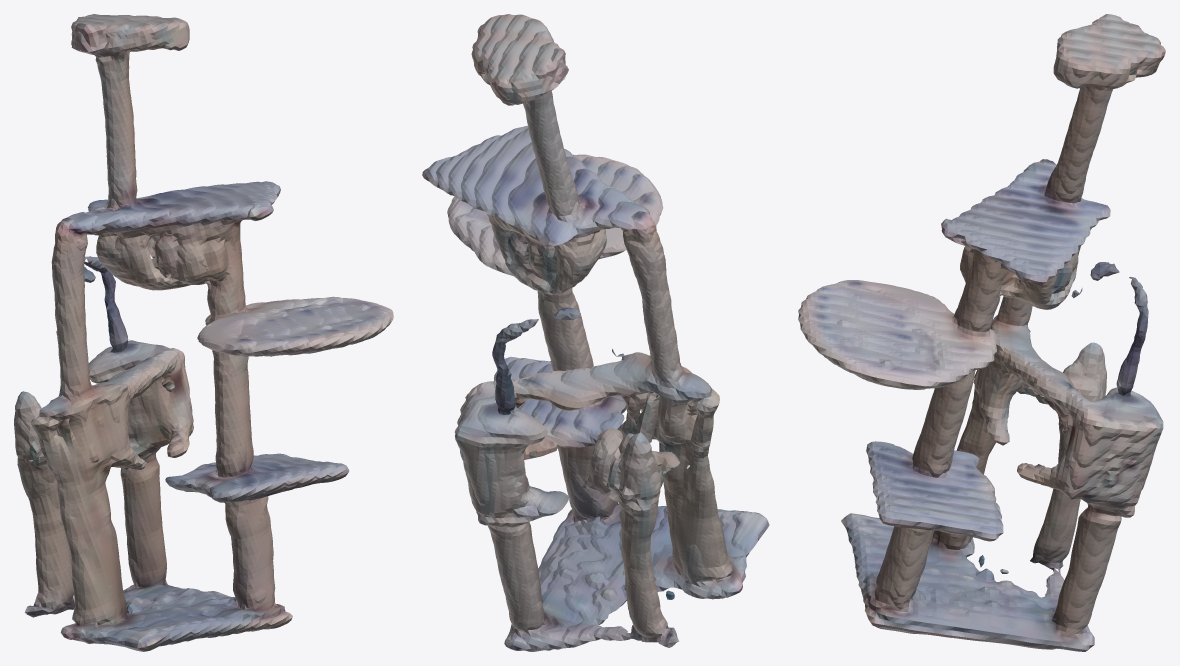
3 views of the same model, side by side, from view 1: azimuth 30°, elevation 25°; view 2: azimuth 150°, elevation 25°; view 3: azimuth 270°, elevation 25° (orthographic). The views are drawn at different scales.
Parts seen in each view (by area): view 1: world; view 2: world; view 3: world.
Boxes of the visible parts, left/top/right/bottom form: world: left=14, top=14, right=393, bottom=651; world: left=422, top=14, right=769, bottom=651; world: left=798, top=14, right=1165, bottom=651.
Bounding box in the file's own units: 0.6408 × 1.21 × 0.6571.
